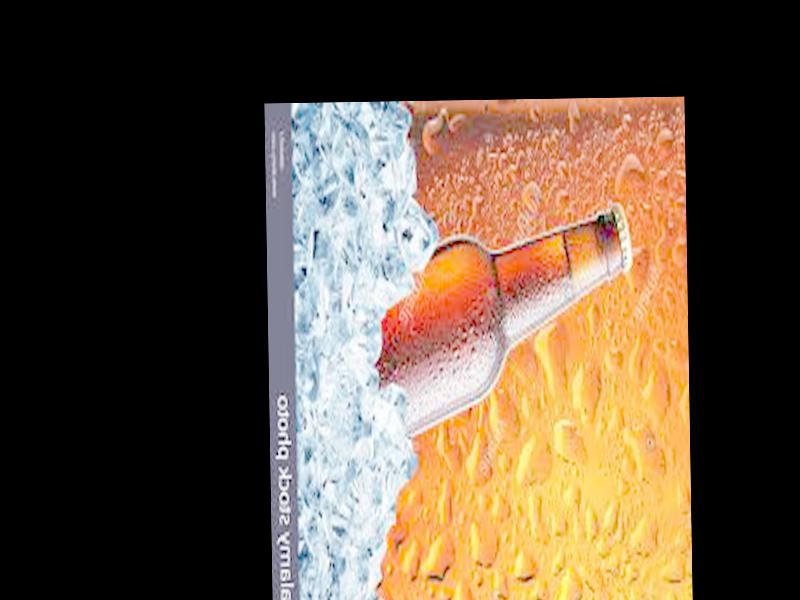Beer: (370, 190, 635, 433)
